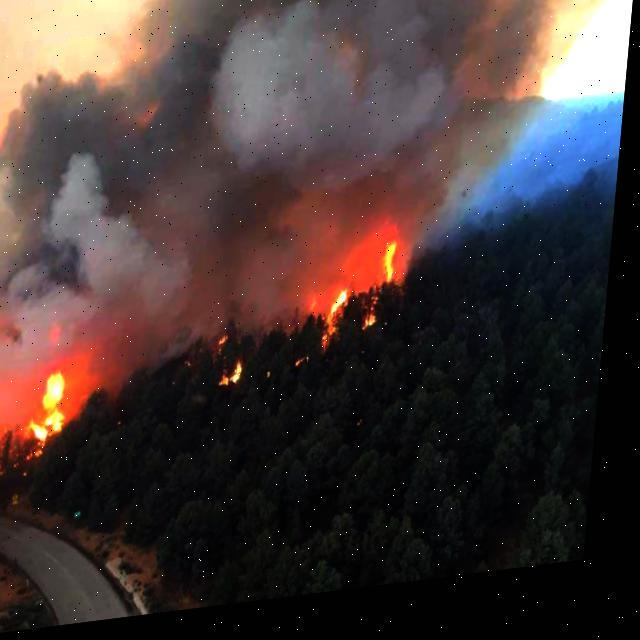Fire: (318, 236, 416, 350), (29, 366, 80, 447), (216, 334, 253, 394)
